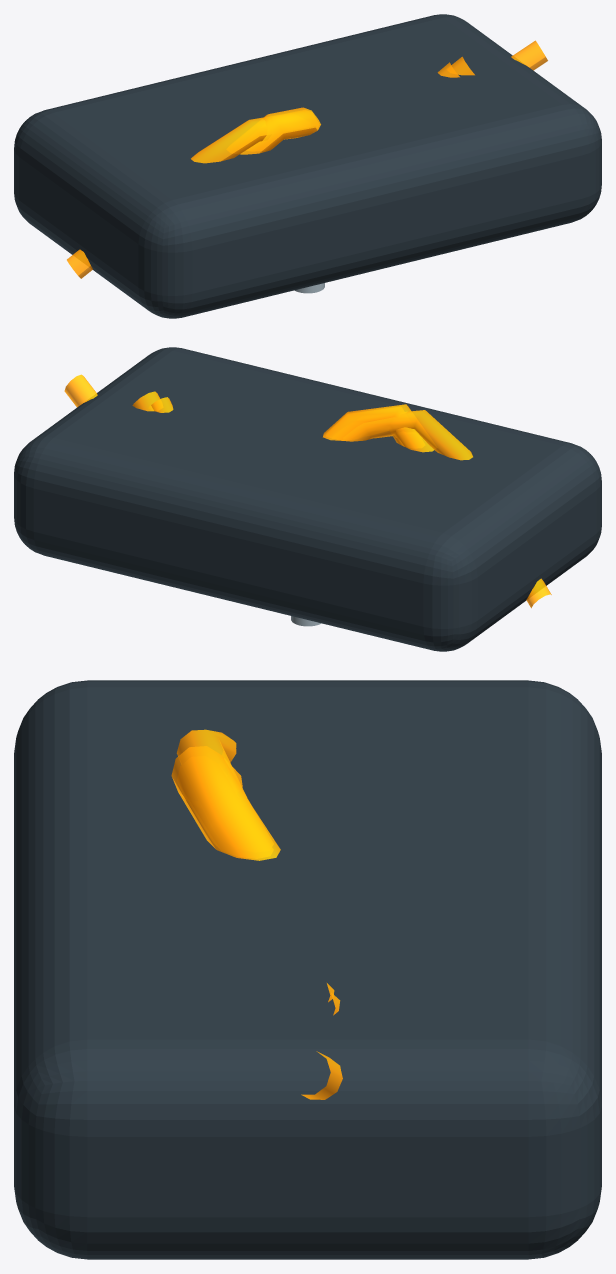
Rendered from body_04.glb.
The picture shows the model from 3 angles, top to bottom: view 1: azimuth 30°, elevation 25°; view 2: azimuth 150°, elevation 25°; view 3: azimuth 270°, elevation 25°; orthographic projection. The views are drawn at different scales.
Parts seen in each view (by area): view 1: asset_mesh__body_0206__reference_body, asset_mesh__body_0276__fluid_path, asset_mesh__body_0253__fluid_path; view 2: asset_mesh__body_0206__reference_body, asset_mesh__body_0276__fluid_path, asset_mesh__body_0253__fluid_path; view 3: asset_mesh__body_0206__reference_body, asset_mesh__body_0253__fluid_path, asset_mesh__body_0276__fluid_path.
Part boxes in pixels (x1,y1,x2,y2): asset_mesh__body_0206__reference_body: (14, 14, 601, 318); asset_mesh__body_0276__fluid_path: (67, 40, 547, 278); asset_mesh__body_0253__fluid_path: (240, 56, 474, 154); asset_mesh__body_0206__reference_body: (14, 347, 601, 651); asset_mesh__body_0276__fluid_path: (64, 374, 551, 608); asset_mesh__body_0253__fluid_path: (132, 391, 434, 452); asset_mesh__body_0206__reference_body: (14, 680, 601, 1259); asset_mesh__body_0253__fluid_path: (171, 746, 340, 1015); asset_mesh__body_0276__fluid_path: (177, 729, 342, 1099).
Bounding box in the file's own units: 1.54 × 0.6386 × 0.882.
